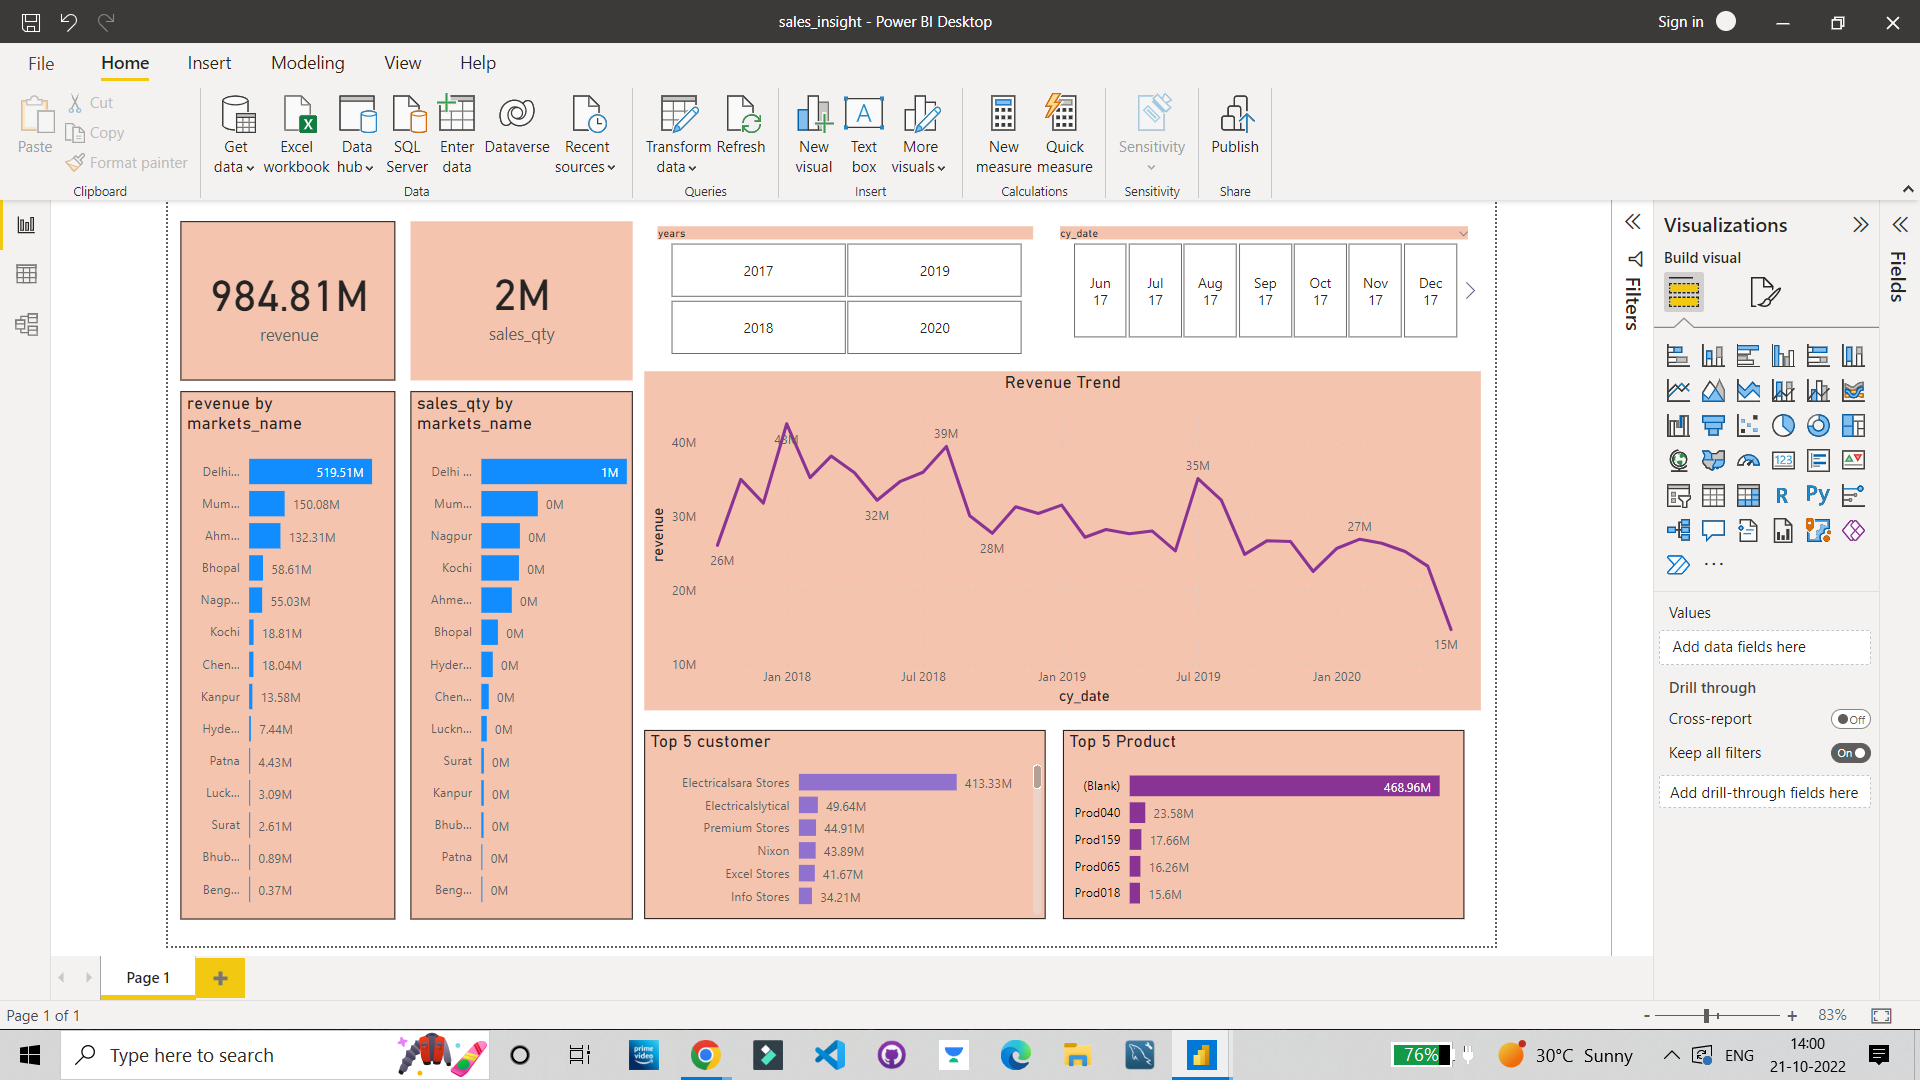

The dashboard page shown, as its layout file describes it:
{"tool":"powerbi","page":{"name":"Page 1","canvas":[1280,720],"ordinal":0},"visuals":[{"type":"card","fields":{"Values":["Basemeasure (2).revenue"]},"box":[12.4,20.6,207.4,153.8],"z":0},{"type":"card","fields":{"Values":["Basemeasure (2).sales_qty"]},"box":[233.5,20.6,214.2,153.8],"z":1000},{"type":"barChart","fields":{"Y":["Basemeasure (2).revenue"],"Category":["sales markets.markets_name"]},"box":[12.4,184,207.4,509.5],"z":2000},{"type":"barChart","fields":{"Y":["Basemeasure (2).sales_qty"],"Category":["sales markets.markets_name"]},"box":[233.5,184,214.2,509.5],"z":3000},{"type":"slicer","fields":{"Values":["sales date.year"]},"box":[459.5,20.5,388.3,135.1],"z":4000},{"type":"slicer","fields":{"Values":["sales date.cy_date"]},"box":[847.8,20.5,419.7,119.4],"z":5000},{"type":"barChart","title":"Top 5 customer","fields":{"Y":["Basemeasure (2).revenue"],"Category":["sales customers.custmer_name"]},"box":[460.1,510.9,387.3,182.7],"z":6000},{"type":"barChart","title":"Top 5 Product","fields":{"Y":["Basemeasure (2).revenue"],"Category":["sales products.product_code"]},"box":[863.9,510.9,387.3,182.7],"z":7000},{"type":"lineChart","title":"Revenue Trend","fields":{"Y":["Basemeasure (2).revenue"],"Category":["sales date.cy_date"]},"box":[460.1,164.8,807.6,326.9],"z":8000}]}

Visuals, with their boxes on the page's 1280x720 design canvas (x1, y1, x2, y2). These are canvas units, not pixel positions in the 1920x1080 screenshot, which may show the page scaled, cropped or inside an application window:
card - Basemeasure (2).revenue: [12, 21, 220, 174]
card - Basemeasure (2).sales_qty: [234, 21, 448, 174]
barChart - Basemeasure (2).revenue x sales markets.markets_name: [12, 184, 220, 694]
barChart - Basemeasure (2).sales_qty x sales markets.markets_name: [234, 184, 448, 694]
slicer - sales date.year: [460, 20, 848, 156]
slicer - sales date.cy_date: [848, 20, 1268, 140]
"Top 5 customer" barChart: [460, 511, 847, 694]
"Top 5 Product" barChart: [864, 511, 1251, 694]
"Revenue Trend" lineChart: [460, 165, 1268, 492]
